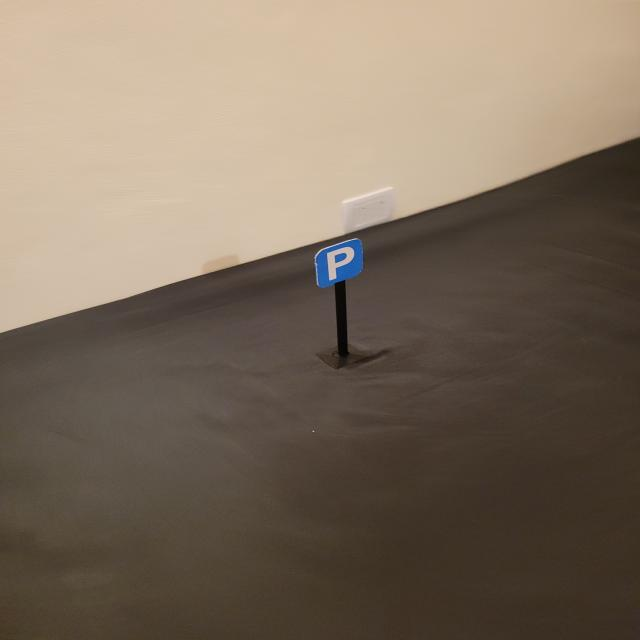parking: (313, 238, 364, 288)
